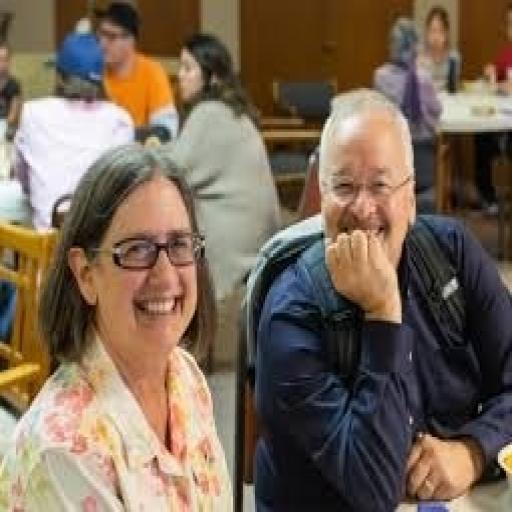sitting: (0, 0, 510, 509), (249, 86, 510, 510), (0, 140, 235, 510), (10, 29, 137, 230), (86, 0, 179, 145)
